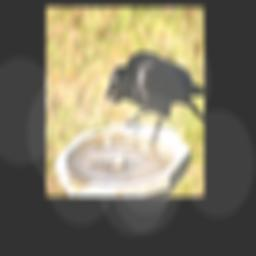Crow: (102, 50, 204, 146)
